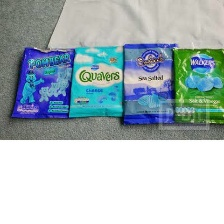snack: (5, 42, 79, 123), (116, 38, 181, 128), (63, 40, 128, 121), (168, 41, 224, 129)
